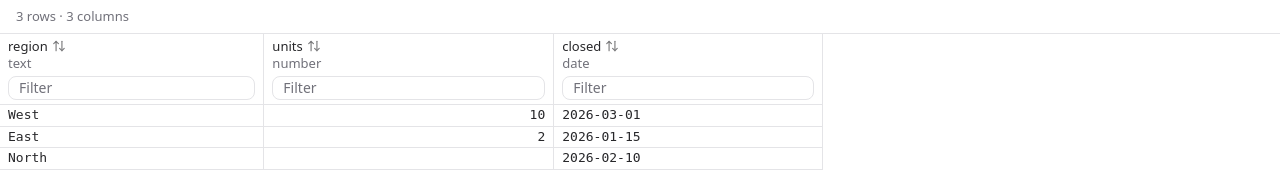
Test: DataTablePreview › filters a column by the text it contains, ignoring case, across columns at once
Type "ST" into the field named "Filter region" at (132, 88), box [8, 76, 255, 100]
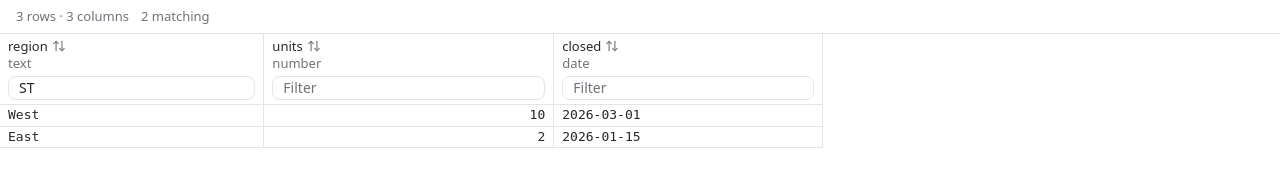
Now the text "2 matching" is shown, box [141, 8, 210, 25]
Type "2" into the field named "Filter units" at (409, 88), box [272, 76, 545, 100]
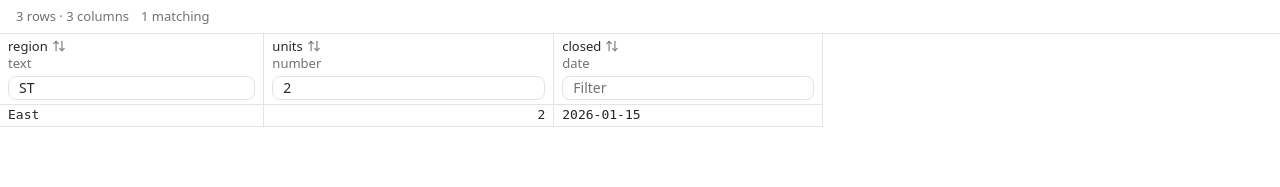
Now the text "1 matching" is shown, box [141, 8, 210, 25]
